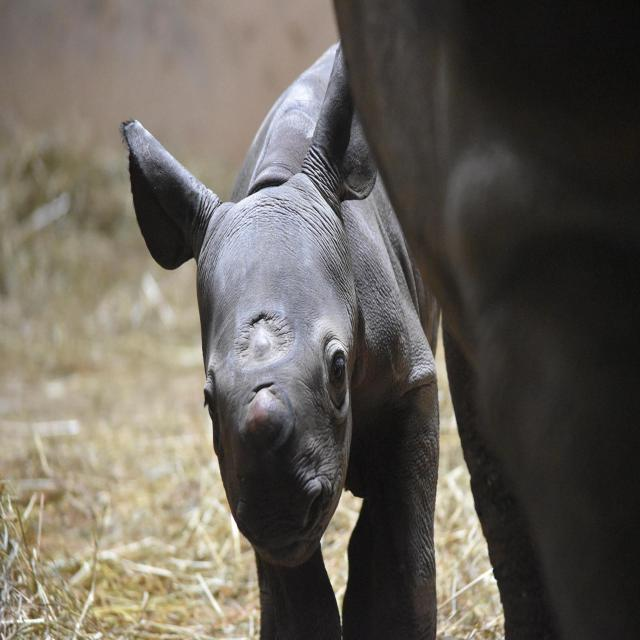Rinoceros: (127, 43, 449, 640)
